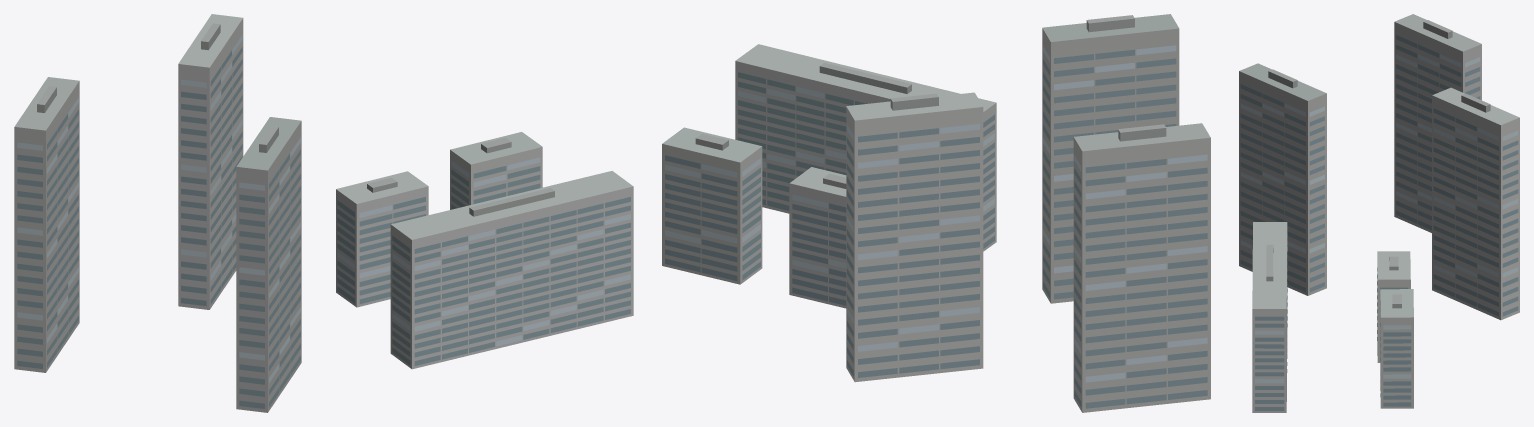
Rendered from apt-a13275301.glb.
The picture shows the model from 3 angles, left to right: view 1: azimuth 30°, elevation 25°; view 2: azimuth 150°, elevation 25°; view 3: azimuth 270°, elevation 25°; orthographic projection. The views are drawn at different scales.
Parts seen in each view (by area): view 1: apt-a13275301; view 2: apt-a13275301; view 3: apt-a13275301.
Boxes of the visible parts, x1=… form: apt-a13275301: x1=14, y1=14, x2=633, y2=412; apt-a13275301: x1=662, y1=14, x2=1210, y2=412; apt-a13275301: x1=1239, y1=14, x2=1519, y2=412.
Bounding box in the file's own units: 161 × 74 × 93.39.
